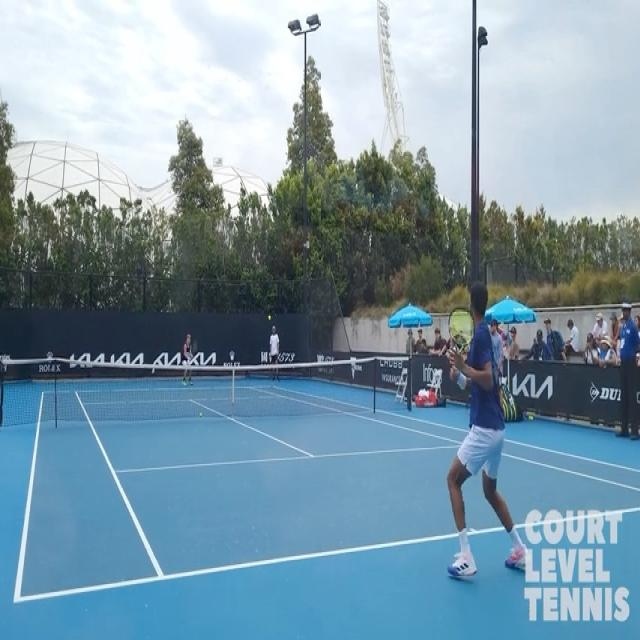forehand-finish: (446, 278, 528, 586)
